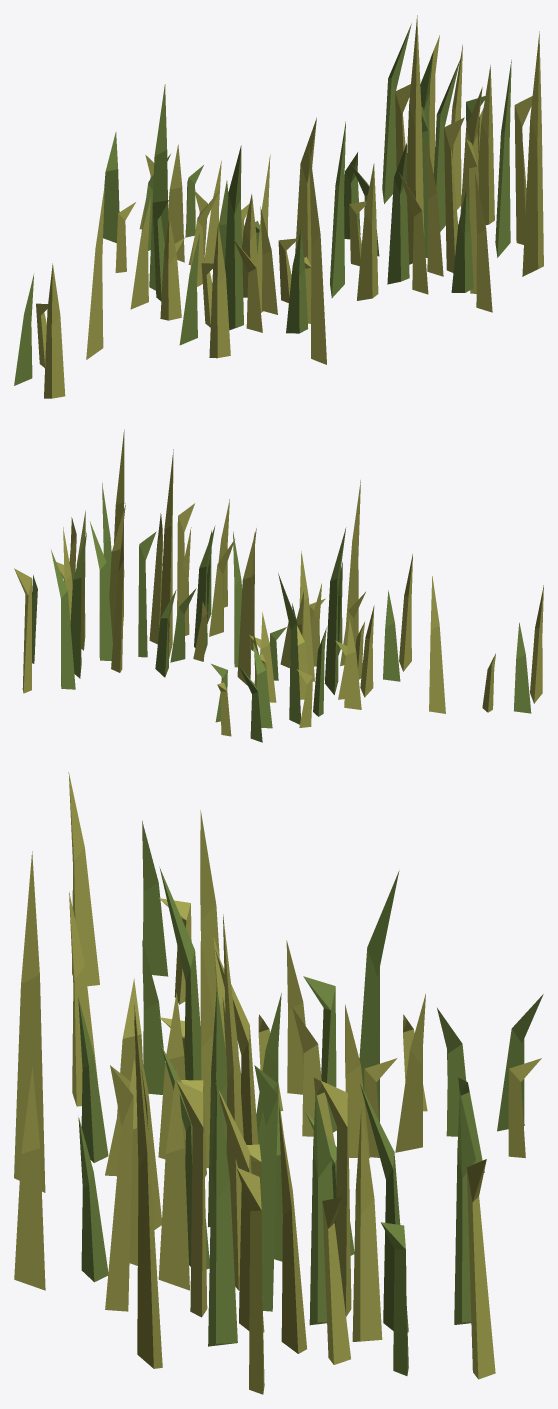
File: fbxlonggrasss.fbx
The picture shows the model from 3 angles, top to bottom: view 1: azimuth 30°, elevation 25°; view 2: azimuth 150°, elevation 25°; view 3: azimuth 270°, elevation 25°; orthographic projection. The views are drawn at different scales.
Parts seen in each view (by area): view 1: pCylinder188; view 2: pCylinder188; view 3: pCylinder188.
Boxes of the visible parts, <box> form: pCylinder188: <box>14,15,543,398</box>; pCylinder188: <box>14,429,543,742</box>; pCylinder188: <box>14,772,543,1394</box>.
Size of the model in its own units: 18.22 by 8.42 by 10.22.
